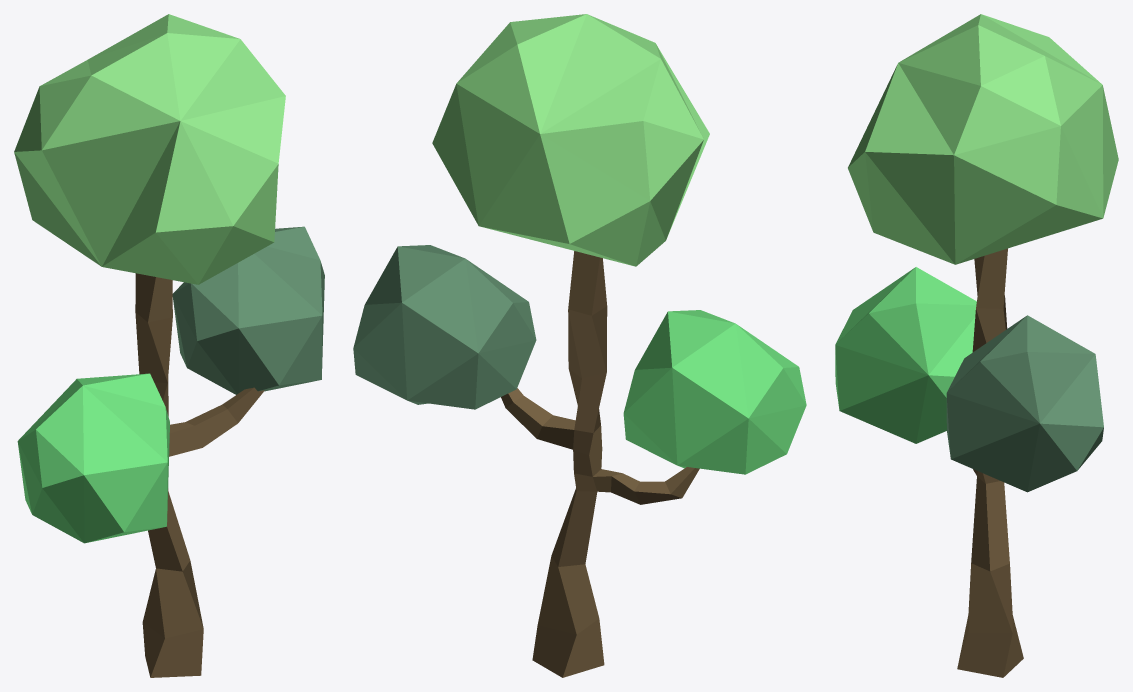
File: TREE2.fbx
The picture shows the model from 3 angles, left to right: view 1: azimuth 30°, elevation 25°; view 2: azimuth 150°, elevation 25°; view 3: azimuth 270°, elevation 25°; orthographic projection. The views are drawn at different scales.
Parts seen in each view (by area): view 1: TREE2; view 2: TREE2; view 3: TREE2.
Part boxes in pixels (x1=…): TREE2: x1=14, y1=14, x2=324, y2=677; TREE2: x1=353, y1=14, x2=806, y2=677; TREE2: x1=835, y1=14, x2=1118, y2=677.
Size of the model in its own units: 1858 by 3158 by 1282.
